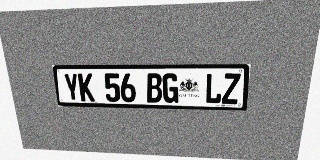5: (104, 73, 121, 102)
6: (119, 73, 136, 102)
B: (146, 73, 162, 103)
G: (162, 73, 178, 103)
K: (78, 73, 95, 101)
L: (205, 73, 223, 104)
Y: (63, 73, 80, 101)
Z: (222, 73, 241, 104)
